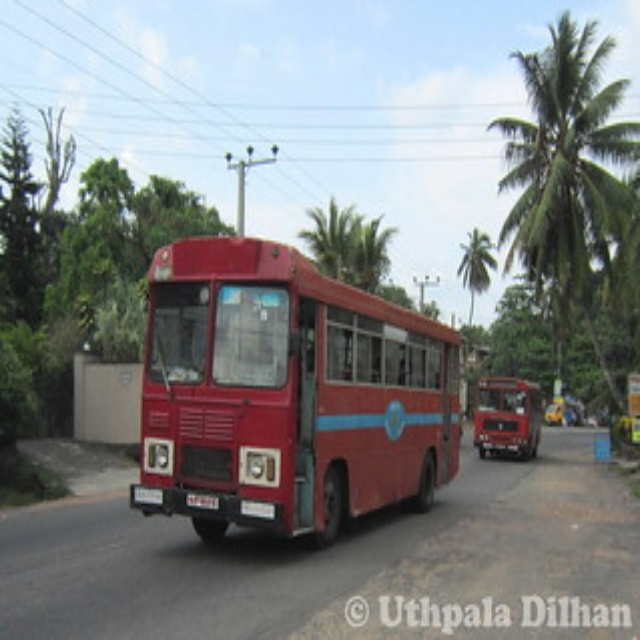Bus: (128, 232, 463, 550), (469, 375, 542, 462)
